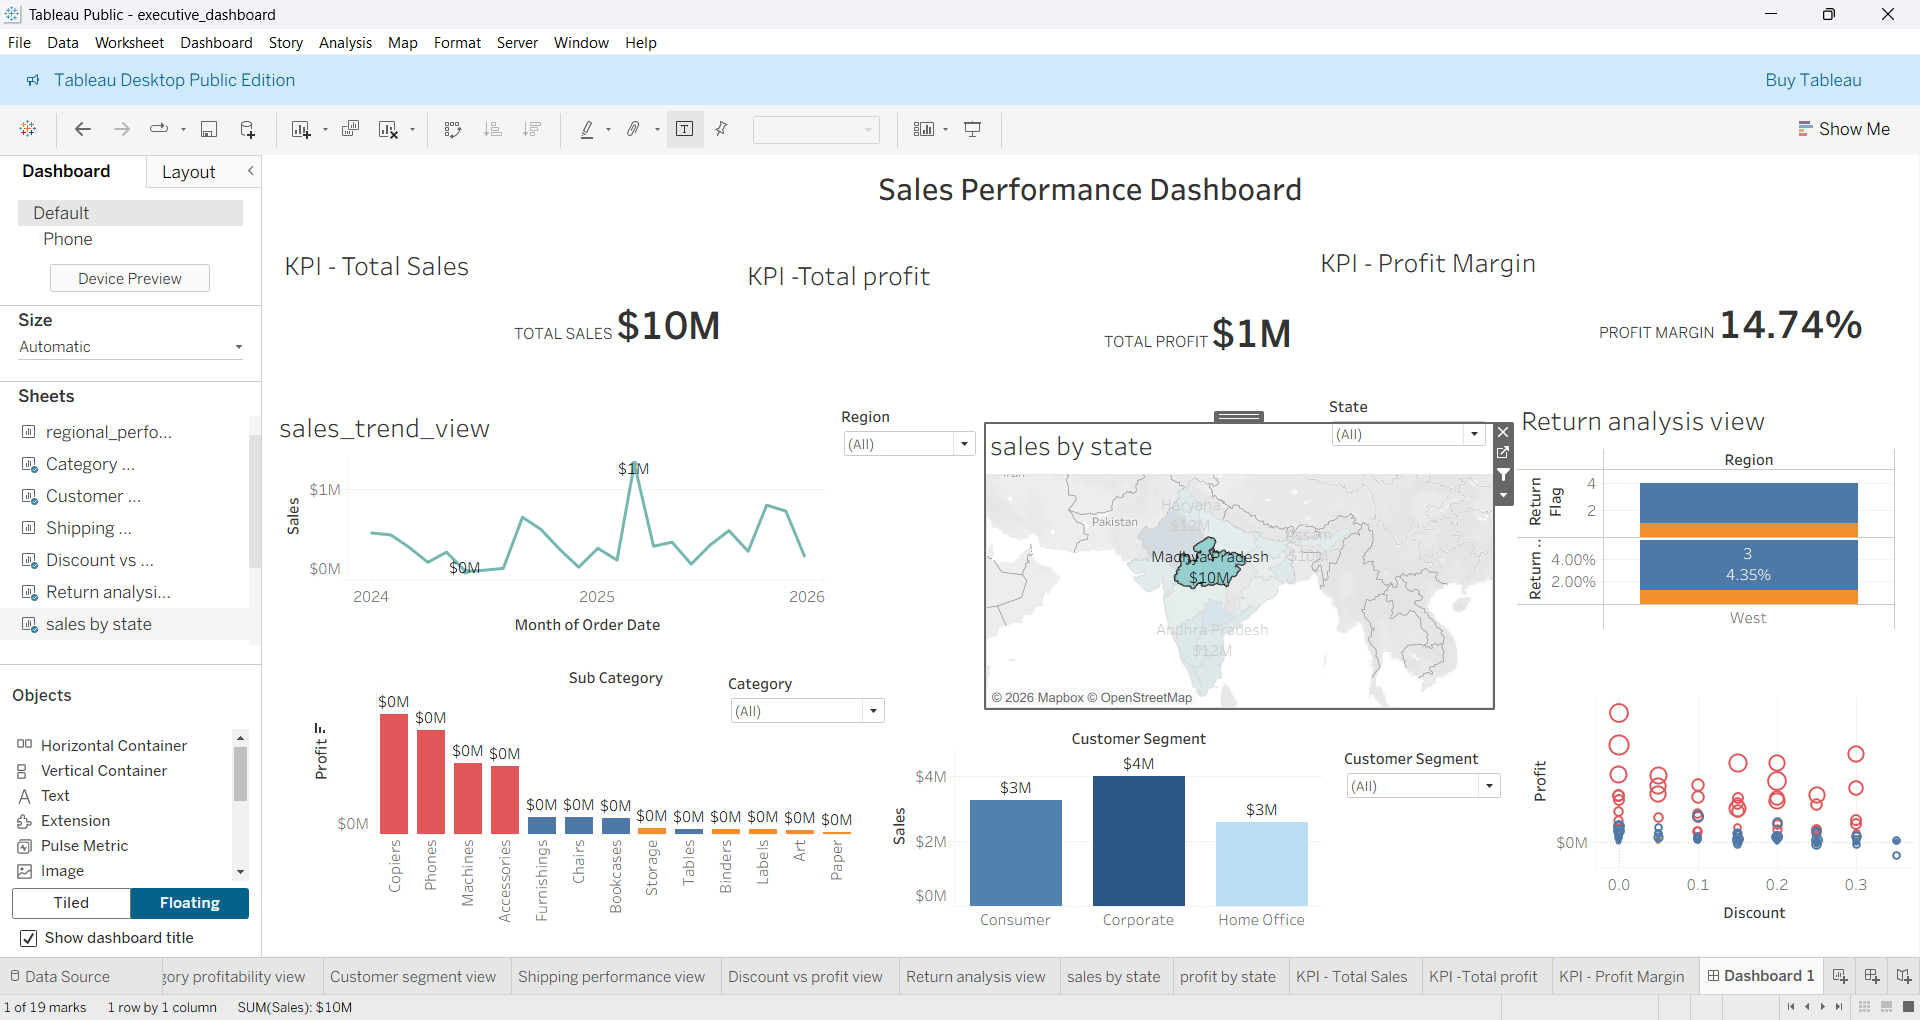

The dashboard page shown, as its layout file describes it:
{"tool":"tableau","page":{"name":"Dashboard 1","canvas":[1000,1000],"units":"permille","ordinal":0},"visuals":[{"type":"title","box":[4.8,10,990.3,61.2]},{"type":"worksheet","title":"KPI - Profit Margin","mark":"Automatic","box":[636.1,107.4,333.1,151.1]},{"type":"worksheet","title":"KPI - Total Sales","mark":"Automatic","box":[10.9,111.1,269.2,146.1]},{"type":"worksheet","title":"KPI -Total profit","mark":"Automatic","box":[290.3,123.6,334.3,141.1]},{"type":"filter","title":"sales by state","param":"[federated.1ufi4u608z300e1dh7ebm0hu70ow].[none:state:nk]","box":[643.9,300.9,96.6,89.9]},{"type":"worksheet","title":"Return analysis view","mark":"Automatic","rows":["return_flag","Calculation_1008269302194179"],"cols":["region"],"box":[757.4,304.6,228.1,288.4]},{"type":"worksheet","title":"sales_trend_view","mark":"Automatic","rows":["sales"],"cols":["order_date"],"box":[7.9,313.4,333.1,294.6]},{"type":"filter","title":"sales_trend_view","param":"[federated.1ufi4u608z300e1dh7ebm0hu70ow].[none:region:nk]","box":[349.4,313.4,83.3,178.5]},{"type":"worksheet","title":"sales by state","mark":"Automatic","box":[436.9,335.8,306,354.6]},{"type":"worksheet","title":"Category profitability view","mark":"Automatic","rows":["profit"],"cols":["sub_category"],"box":[24.7,639.2,333.1,333.3]},{"type":"filter","title":"Category profitability view","param":"[federated.1ufi4u608z300e1dh7ebm0hu70ow].[none:category:nk]","box":[281.2,646.7,96.6,71.2]},{"type":"worksheet","title":"Discount vs profit view","mark":"Automatic","rows":["profit"],"cols":["discount"],"box":[760.4,676.6,236.6,290.9]},{"type":"worksheet","title":"Customer segment view","mark":"Automatic","rows":["sales"],"cols":["customer_segment"],"box":[373.6,715.4,266.8,272.2]},{"type":"filter","title":"Customer segment view","param":"[federated.1ufi4u608z300e1dh7ebm0hu70ow].[none:customer_segment:nk]","box":[653,740.3,96.6,149.8]}]}

Visuals, with their boxes on the dashboard's canvas, which has no fixed pixel size, in thousandths of its width and height (x1, y1, x2, y2). These are canvas units, not pixel positions in the 1920x1020 screenshot, which may show the page scaled, cropped or inside an application window:
title: 5/10/995/71
"KPI - Profit Margin" worksheet: 636/107/969/258
"KPI - Total Sales" worksheet: 11/111/280/257
"KPI -Total profit" worksheet: 290/124/625/265
"sales by state" filter: 644/301/740/391
"Return analysis view" worksheet: 757/305/986/593
"sales_trend_view" worksheet: 8/313/341/608
"sales_trend_view" filter: 349/313/433/492
"sales by state" worksheet: 437/336/743/690
"Category profitability view" worksheet: 25/639/358/972
"Category profitability view" filter: 281/647/378/718
"Discount vs profit view" worksheet: 760/677/997/968
"Customer segment view" worksheet: 374/715/640/988
"Customer segment view" filter: 653/740/750/890
